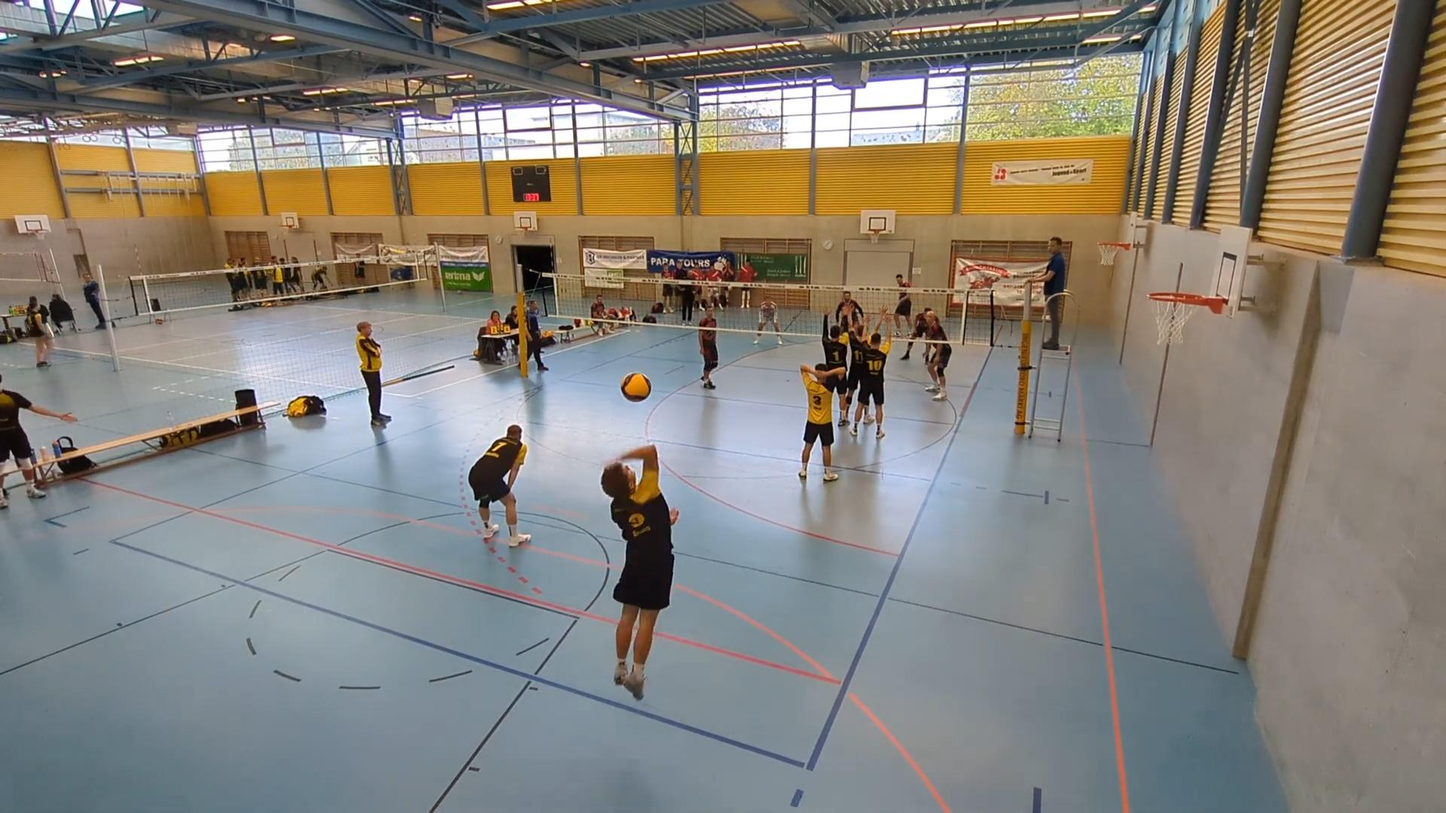Player: (468, 425, 530, 547), (798, 363, 846, 481), (850, 307, 891, 439), (838, 321, 867, 426), (822, 314, 848, 419), (925, 326, 951, 400), (698, 304, 718, 389), (901, 307, 932, 359), (753, 300, 783, 345), (892, 274, 912, 335), (834, 291, 866, 329)
Serve: (586, 437, 682, 696)
ball: (620, 372, 652, 399)
